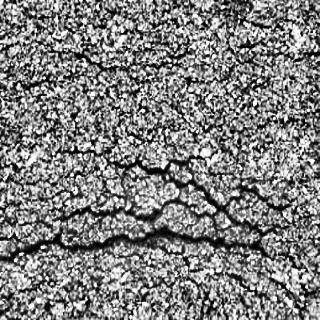alligator-crack: (2, 148, 313, 288)
